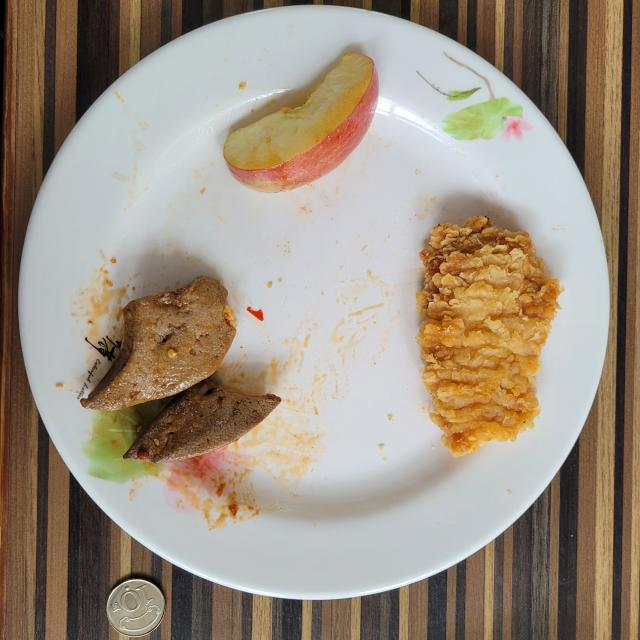apple -sliced-: (224, 54, 379, 192)
coin: (106, 579, 165, 636)
fried chicken cutlet: (416, 216, 561, 456)
pig liver: (80, 276, 281, 462)
